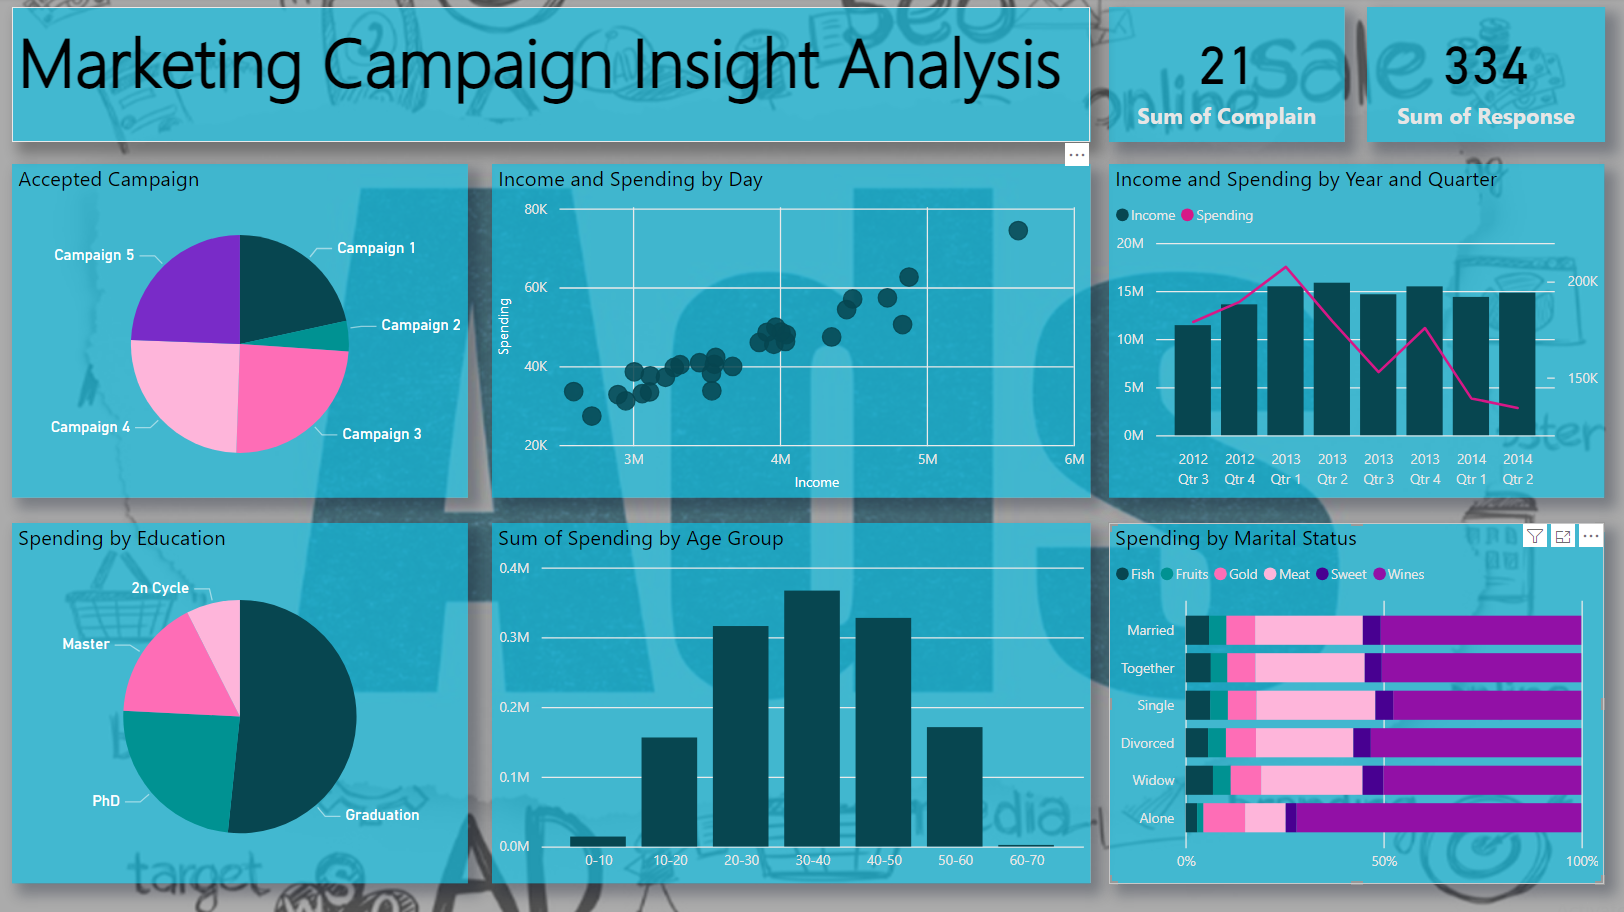

Layout of this report page (visuals, bound fields, positions):
{"tool":"powerbi","page":{"name":"Page 1","canvas":[1280,720],"ordinal":0},"visuals":[{"type":"pieChart","title":"Spending by Education","fields":{"Y":["Sum(Sheet1.Spending)"],"Category":["Sheet1.Education"]},"box":[10.7,412.4,357.9,283],"z":0},{"type":"scatterChart","fields":{"X":["Sum(Sheet1.Income)"],"Y":["Sum(Sheet1.Spending)"],"Category":["Sheet1.Dt_Customer.Variation.Date Hierarchy.Day"]},"box":[388.1,130.3,469.8,261.6],"z":1000},{"type":"lineClusteredColumnComboChart","fields":{"Category":["Sheet1.Dt_Customer.Variation.Date Hierarchy.Year","Sheet1.Dt_Customer.Variation.Date Hierarchy.Quarter"],"Y":["Sum(Sheet1.Income)"],"Y2":["Sum(Sheet1.Spending)"]},"box":[872.5,130.3,389.1,261.6],"z":2000},{"type":"hundredPercentStackedBarChart","title":"Spending by Marital Status","fields":{"Category":["Sheet1.Marital_Status"],"Y":["Sum(Sheet1.MntFishProducts)","Sum(Sheet1.MntFruits)","Sum(Sheet1.MntGoldProds)","Sum(Sheet1.MntMeatProducts)","Sum(Sheet1.MntSweetProducts)","Sum(Sheet1.MntWines)"]},"box":[872.5,412.4,389.1,283],"z":3000},{"type":"card","fields":{"Values":["Sum(Sheet1.Response)"]},"box":[1074.8,6.8,186.7,106],"z":4000},{"type":"card","fields":{"Values":["Sum(Sheet1.Complain)"]},"box":[872.5,6.8,184.8,106],"z":5000},{"type":"clusteredColumnChart","fields":{"Category":["Sheet1.Age Group"],"Y":["Sum(Sheet1.Spending)"]},"box":[388.1,412.4,469.8,283],"z":6000},{"type":"pieChart","title":"Accepted Campaign","fields":{"Y":["Sum(Sheet1.AcceptedCmp1)","Sum(Sheet1.AcceptedCmp2)","Sum(Sheet1.AcceptedCmp3)","Sum(Sheet1.AcceptedCmp4)","Sum(Sheet1.AcceptedCmp5)"]},"box":[10.7,130.3,357.9,261.6],"z":7000},{"type":"textbox","box":[10.7,6.8,847.2,106],"z":8000}]}

Visuals, with their boxes in screenshot pixels (x1, y1, x2, y2), scaled from the page's 1280x720 canvas onto the 1624x912 screenshot:
"Spending by Education" pieChart: bbox=(14, 522, 468, 881)
scatterChart - Sum(Sheet1.Income) x Sum(Sheet1.Spending): bbox=(492, 165, 1088, 496)
lineClusteredColumnComboChart - Sheet1.Dt_Customer.Variation.Date Hierarchy.Year x Sheet1.Dt_Customer.Variation.Date Hierarchy.Quarter: bbox=(1107, 165, 1601, 496)
"Spending by Marital Status" hundredPercentStackedBarChart: bbox=(1107, 522, 1601, 881)
card - Sum(Sheet1.Response): bbox=(1364, 9, 1601, 143)
card - Sum(Sheet1.Complain): bbox=(1107, 9, 1341, 143)
clusteredColumnChart - Sheet1.Age Group x Sum(Sheet1.Spending): bbox=(492, 522, 1088, 881)
"Accepted Campaign" pieChart: bbox=(14, 165, 468, 496)
textbox: bbox=(14, 9, 1088, 143)
